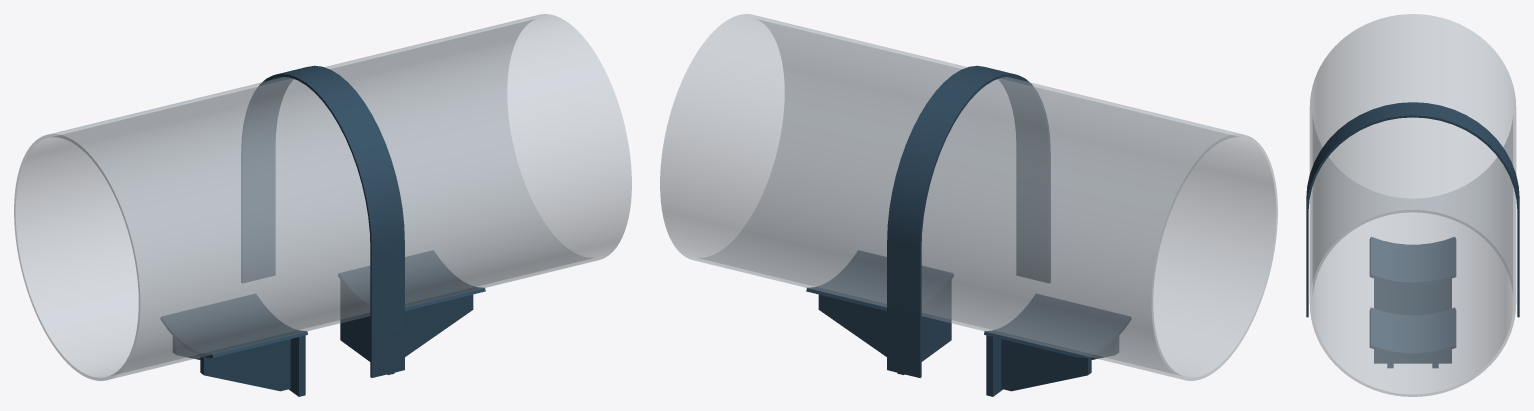
File: TS-669.00.00-08-opora-dn530-ris1.glb
3 renders of one model, left to right at view 1: azimuth 30°, elevation 25°; view 2: azimuth 150°, elevation 25°; view 3: azimuth 270°, elevation 25°, orthographic. The views are drawn at different scales.
Parts seen in each view (by area): view 1: truba, homut_9, upor_8, upor_4, upor_6, upor_2, upor_1, upor_5; view 2: truba, homut_9, upor_8, upor_4, upor_7, upor_3, upor_1, upor_5; view 3: truba, homut_9, upor_8, upor_4, upor_5, upor_1.
Boxes of the visible parts, x1=… form: truba: x1=14, y1=14, x2=631, y2=380; homut_9: x1=241, y1=65, x2=404, y2=377; upor_8: x1=161, y1=294, x2=307, y2=357; upor_4: x1=338, y1=250, x2=485, y2=310; upor_6: x1=200, y1=339, x2=290, y2=391; upor_2: x1=405, y1=294, x2=473, y2=356; upor_1: x1=340, y1=280, x2=394, y2=374; upor_5: x1=289, y1=335, x2=305, y2=396; truba: x1=660, y1=14, x2=1277, y2=380; homut_9: x1=887, y1=65, x2=1050, y2=377; upor_8: x1=984, y1=294, x2=1130, y2=357; upor_4: x1=806, y1=250, x2=953, y2=310; upor_7: x1=1001, y1=339, x2=1091, y2=391; upor_3: x1=818, y1=294, x2=886, y2=356; upor_1: x1=897, y1=280, x2=951, y2=374; upor_5: x1=986, y1=335, x2=1002, y2=396; truba: x1=1309, y1=14, x2=1516, y2=396; homut_9: x1=1306, y1=102, x2=1519, y2=317; upor_8: x1=1369, y1=237, x2=1456, y2=285; upor_4: x1=1369, y1=307, x2=1456, y2=355; upor_5: x1=1374, y1=278, x2=1451, y2=315; upor_1: x1=1374, y1=349, x2=1451, y2=363.
Size of the model in its own units: 1190 by 668 by 548.
